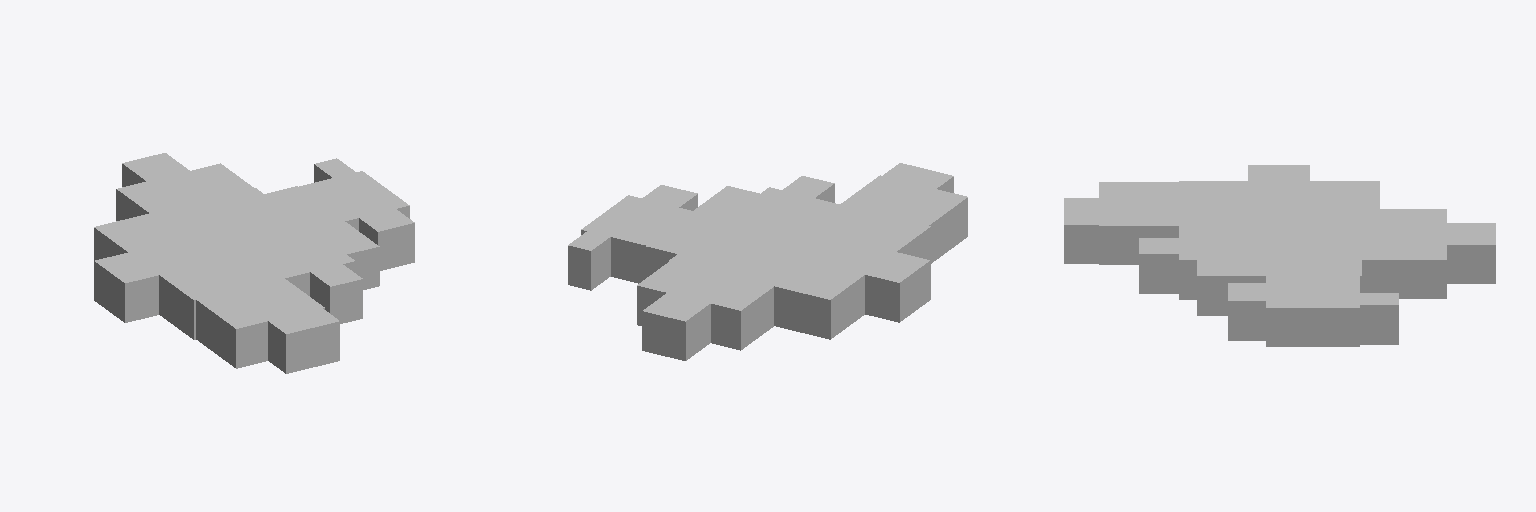
Rendered from CloudV1.obj.
The picture shows the model from 3 angles: view 1: azimuth 30°, elevation 25°; view 2: azimuth 150°, elevation 25°; view 3: azimuth 270°, elevation 25°; orthographic projection.
Parts seen in each view (by area): view 1: pCube1; view 2: pCube1; view 3: pCube1.
Part boxes in pixels (x1,y1,x2,y2): pCube1: (94, 153, 414, 373); pCube1: (568, 163, 967, 360); pCube1: (1064, 165, 1495, 346).
Size of the model in its own units: 3.87 by 0.5 by 4.94.